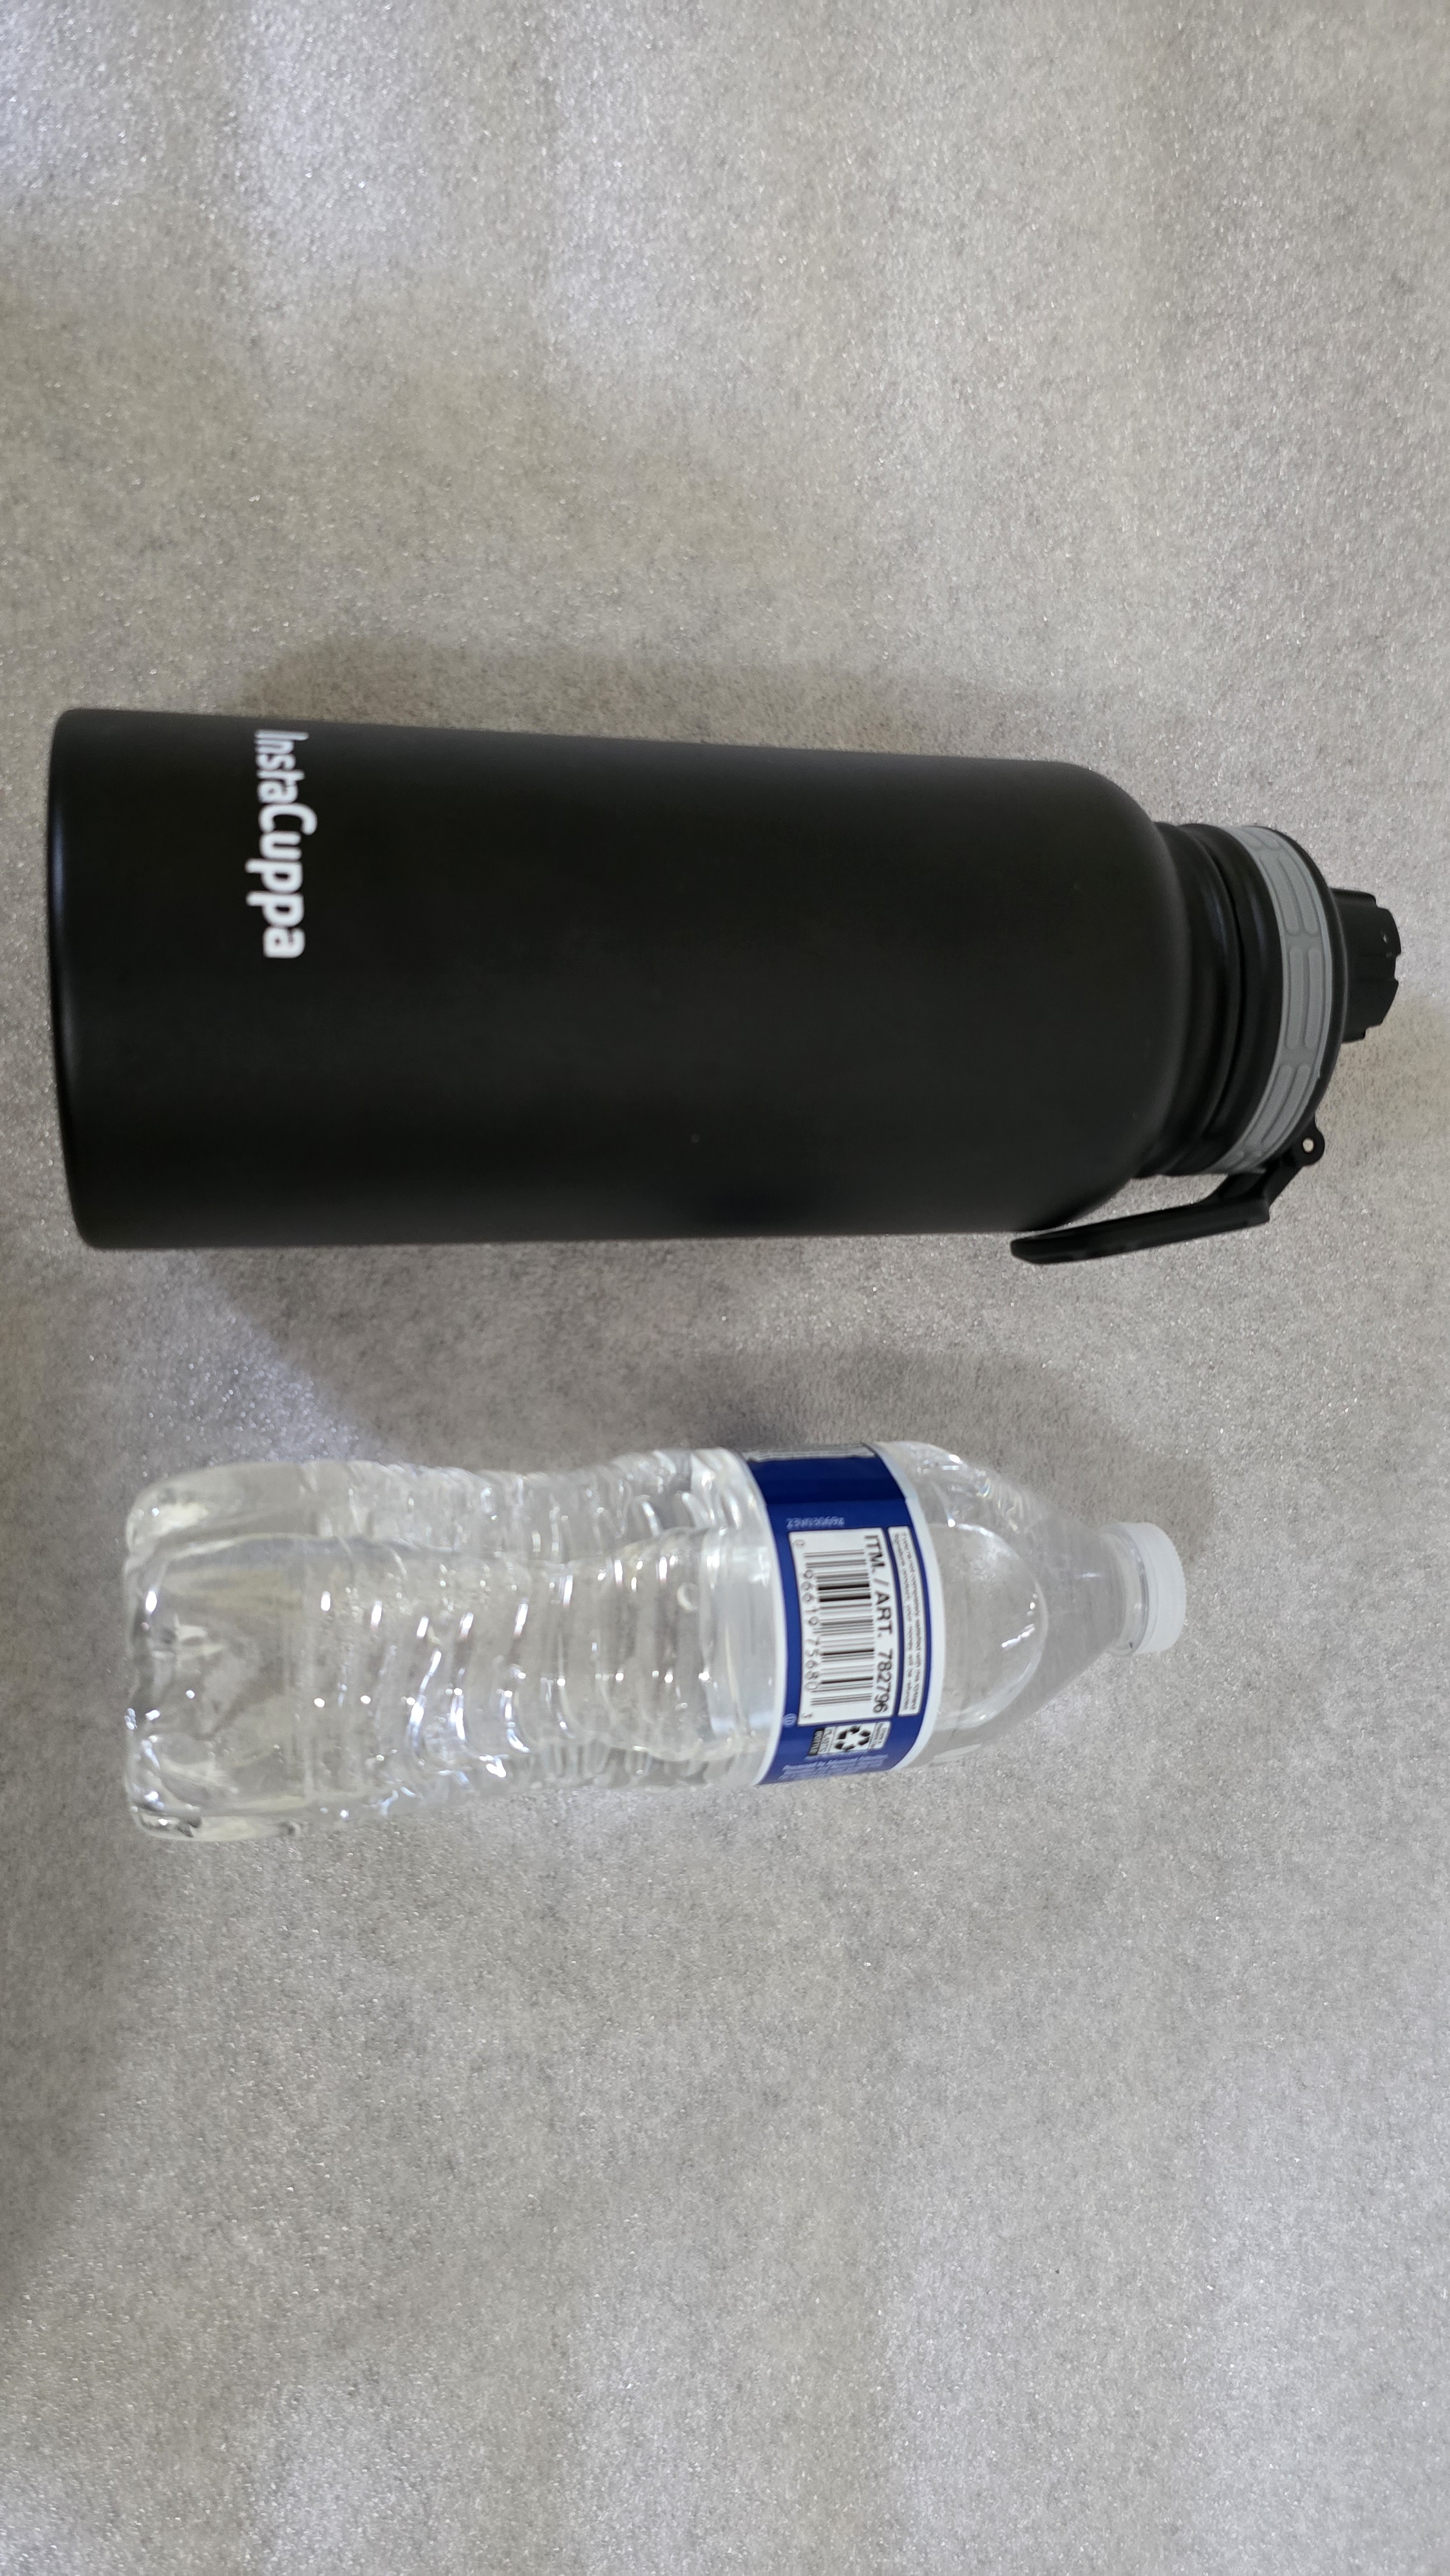bottle: (12, 667, 1436, 1300), (74, 1428, 1238, 1824)
